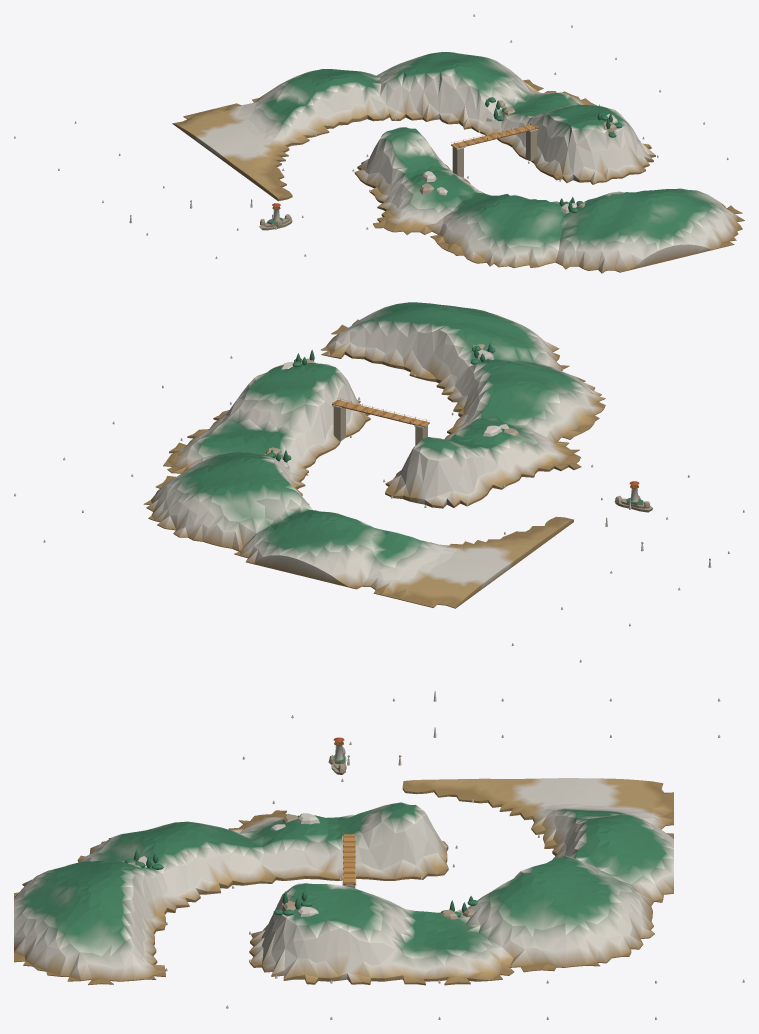
File: white-cliffs-v2.glb
3 views of the same model, one above another, from view 1: azimuth 30°, elevation 25°; view 2: azimuth 150°, elevation 25°; view 3: azimuth 270°, elevation 25° (orthographic). The views are drawn at different scales.
Parts seen in each view (by area): view 1: white-cliffs-v2; view 2: white-cliffs-v2; view 3: white-cliffs-v2.
Boxes of the visible parts, left/top/right/bottom form: white-cliffs-v2: left=14, top=14, right=744, bottom=273; white-cliffs-v2: left=14, top=302, right=744, bottom=662; white-cliffs-v2: left=14, top=691, right=744, bottom=1019.
Size of the model in its own units: 235 by 21.17 by 227.
